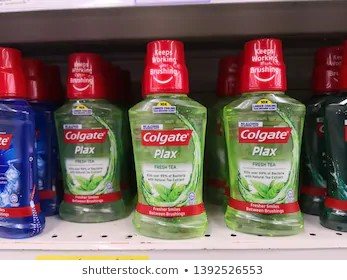colgate-Plax: (223, 37, 306, 239), (137, 40, 207, 237), (53, 53, 121, 220)
